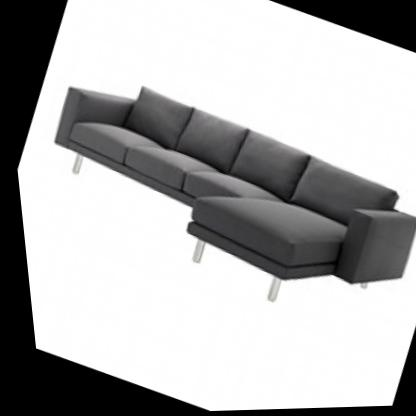Sofa: (2, 14, 416, 361)
